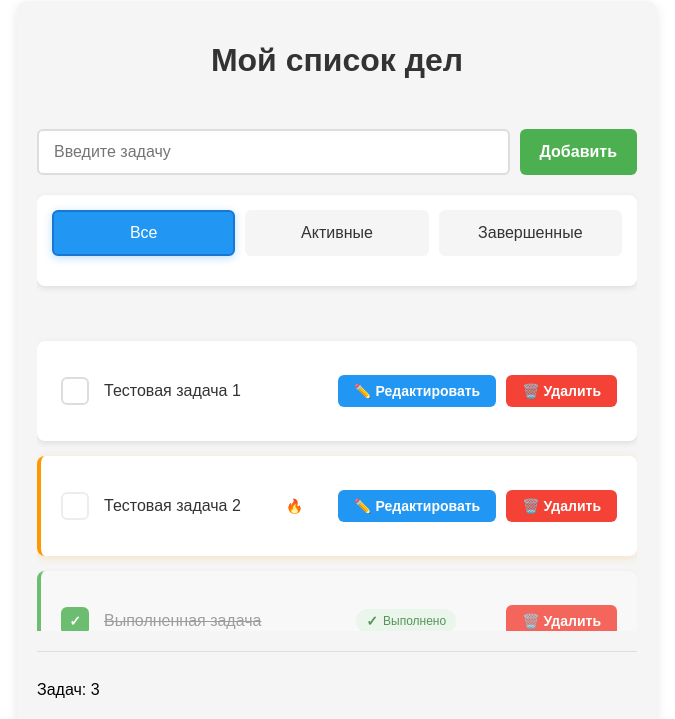
Test: App component › Обновляет задачу при редактировании
expect the text "Тестовая задача 1" is shown: met, box [104, 382, 241, 399]
Click the button "✏️ Редактировать" next to "Тестовая задача 1" at (417, 391), box [338, 375, 496, 407]
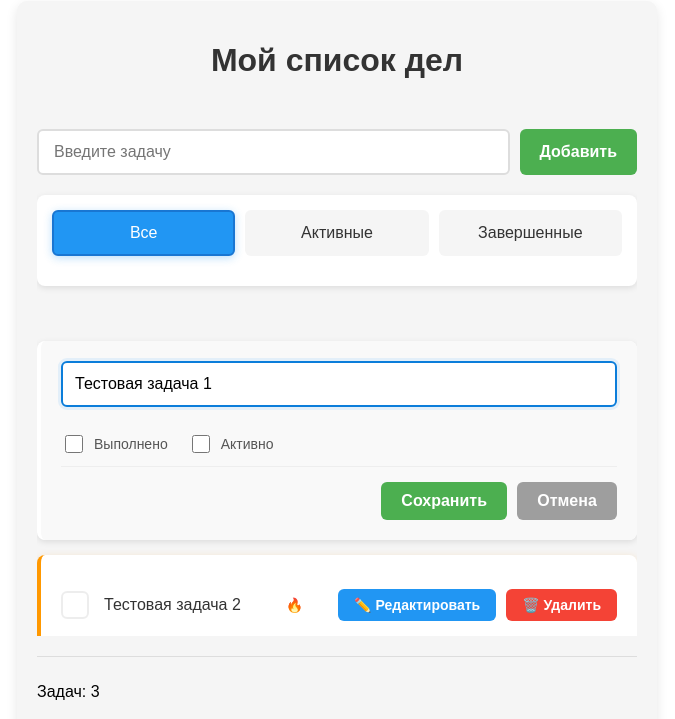
Replace the text in the field showing "Тестовая задача 1" with "Обновленная задача" at (339, 384), box [61, 361, 617, 407]
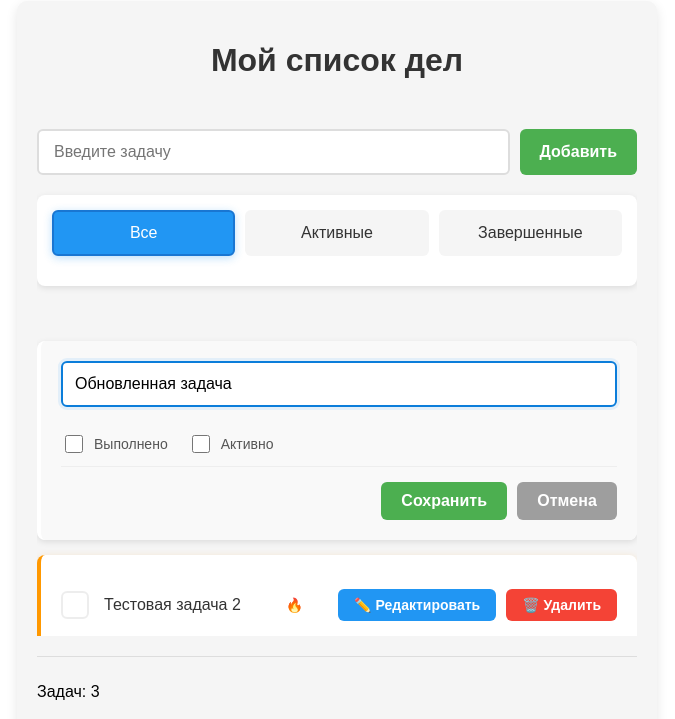
Click the button "Сохранить" at (444, 501), box [381, 482, 507, 520]
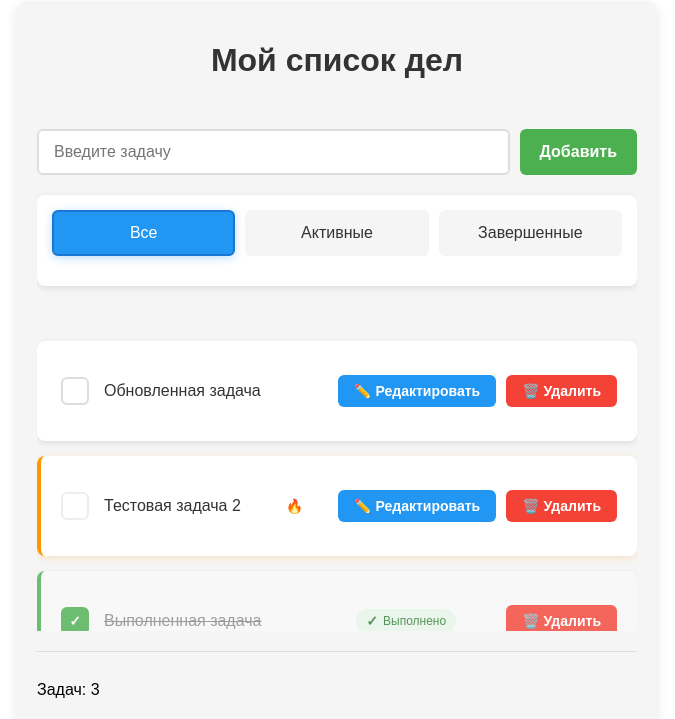
expect the text "Обновленная задача" is shown: met, box [104, 377, 288, 405]
